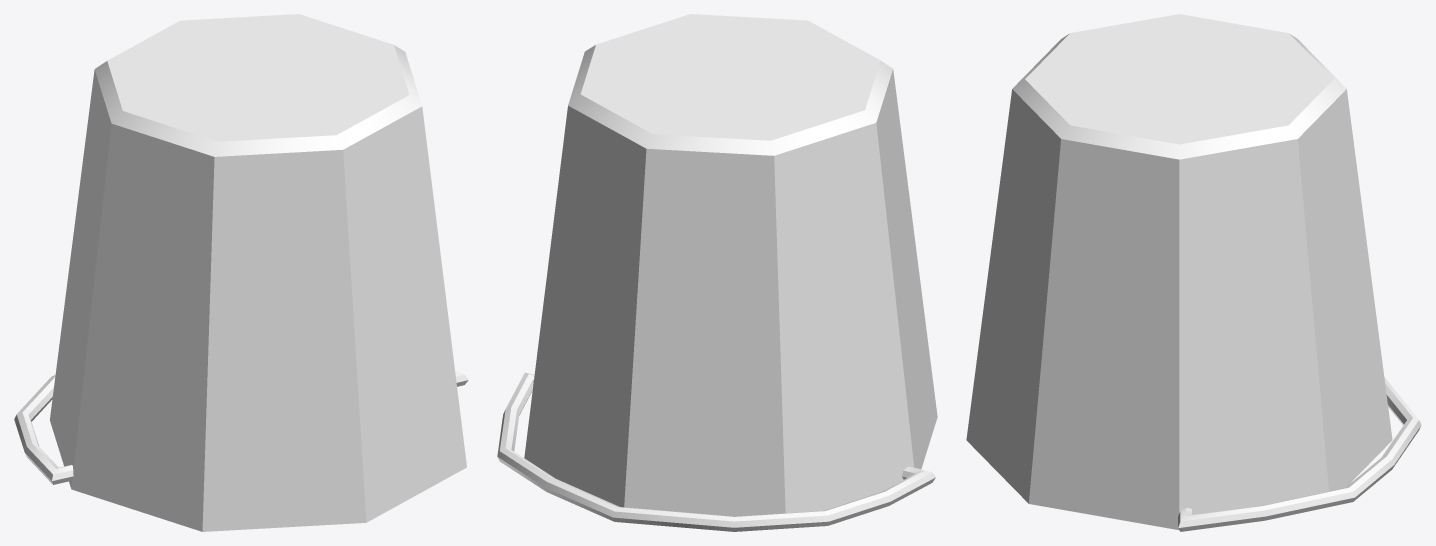
The model's file is pail.fbx.
3 renders of one model, left to right at view 1: azimuth 30°, elevation 25°; view 2: azimuth 150°, elevation 25°; view 3: azimuth 270°, elevation 25°, orthographic.
Parts seen in each view (by area): view 1: Cylinder007, Line002; view 2: Cylinder007, Line002; view 3: Cylinder007, Line002.
Part boxes in pixels (x1,y1,x2,y2): Cylinder007: (50, 14, 466, 531); Line002: (14, 371, 468, 484); Cylinder007: (524, 14, 937, 516); Line002: (497, 372, 935, 531); Cylinder007: (966, 14, 1392, 529); Line002: (1178, 377, 1421, 531).
Size of the model in its own units: 106 by 88.96 by 102.
